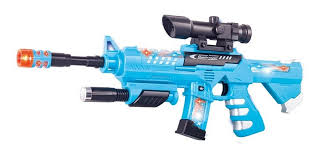Arma Falsa: (17, 14, 304, 143)
